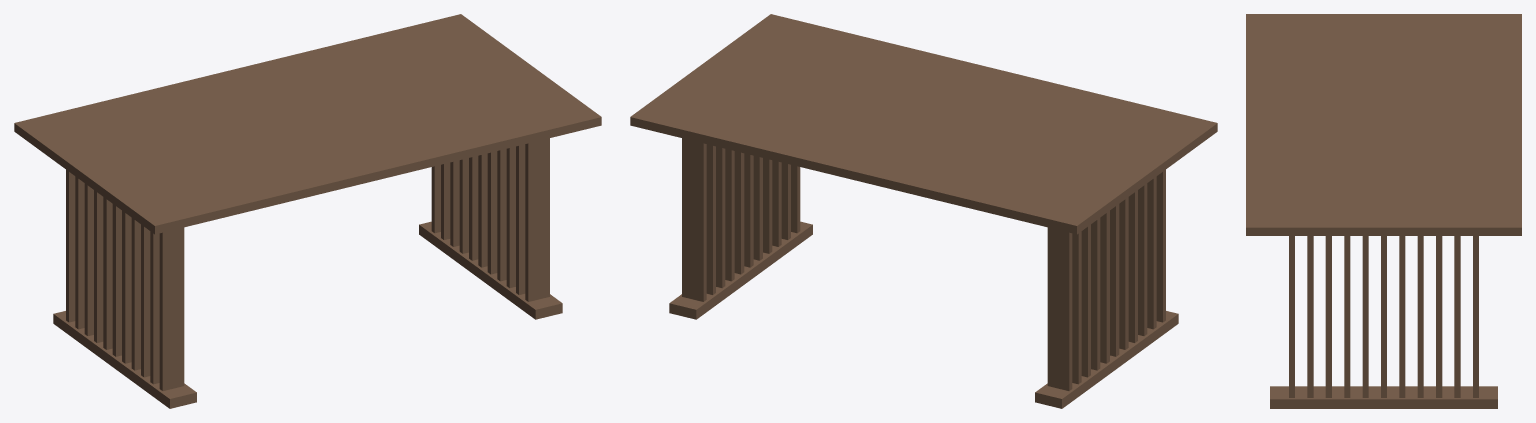
File: 534_ダイニングテーブル4人掛け.glb
3 renders of one model, left to right at view 1: azimuth 30°, elevation 25°; view 2: azimuth 150°, elevation 25°; view 3: azimuth 270°, elevation 25°, orthographic. The views are drawn at different scales.
Parts seen in each view (by area): view 1: Body; view 2: Body; view 3: Body.
Part boxes in pixels (<box>): Body: <box>14,14,601,408</box>; Body: <box>630,14,1217,408</box>; Body: <box>1246,14,1521,408</box>.
Bounding box in the file's own units: 1.65 × 0.7 × 0.9.
